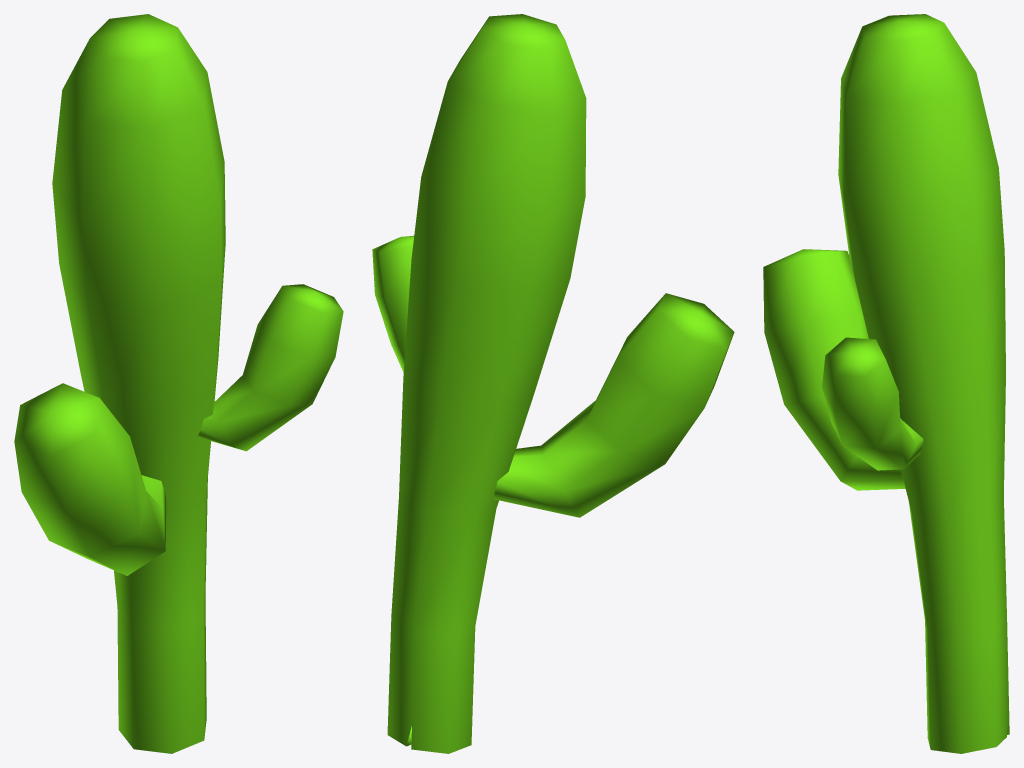
Rendered from Middle_Cac.fbx.
3 views of the same model, side by side, from view 1: azimuth 30°, elevation 25°; view 2: azimuth 150°, elevation 25°; view 3: azimuth 270°, elevation 25° (orthographic). The views are drawn at different scales.
Parts seen in each view (by area): view 1: pCylinder10; view 2: pCylinder10; view 3: pCylinder10.
Boxes of the visible parts, box(x1,y1,x2,y2) form: pCylinder10: box(14, 14, 343, 753); pCylinder10: box(372, 14, 734, 753); pCylinder10: box(763, 14, 1009, 753).
Bounding box in the file's own units: 3.78 × 7.77 × 2.5.
Materials: 1 (1 with a texture image).
